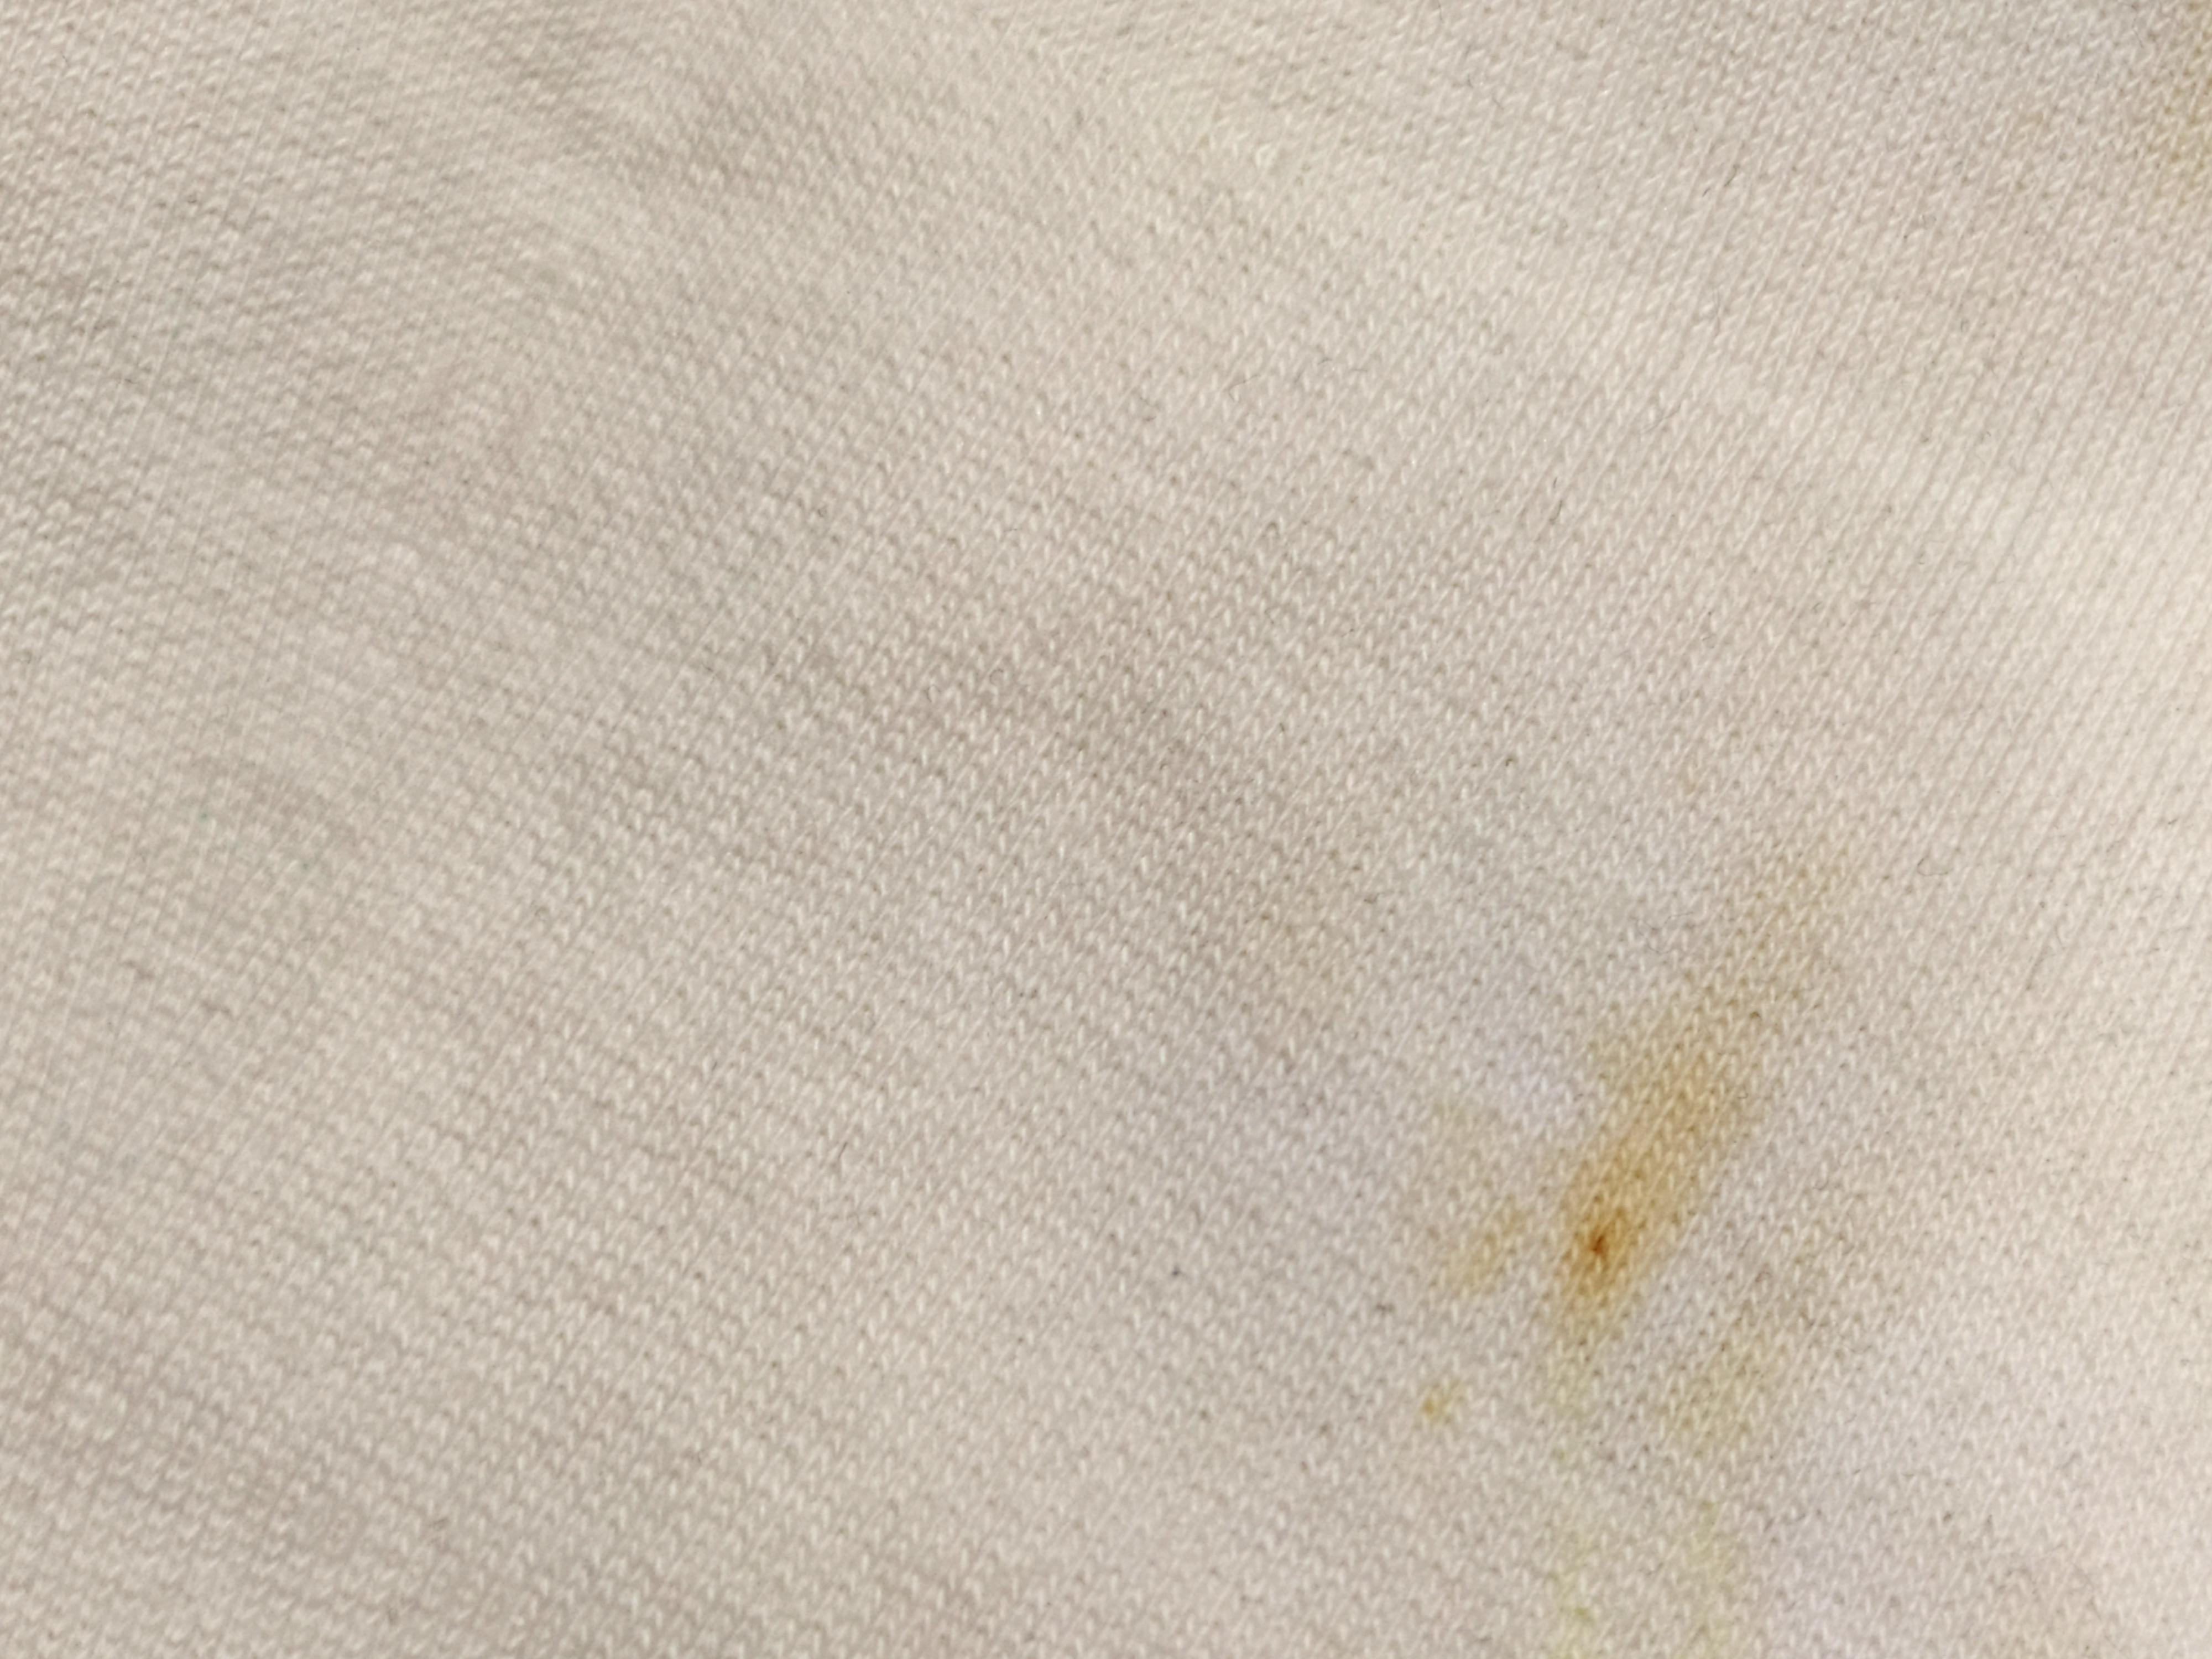stain: (1548, 967, 1761, 1359)
